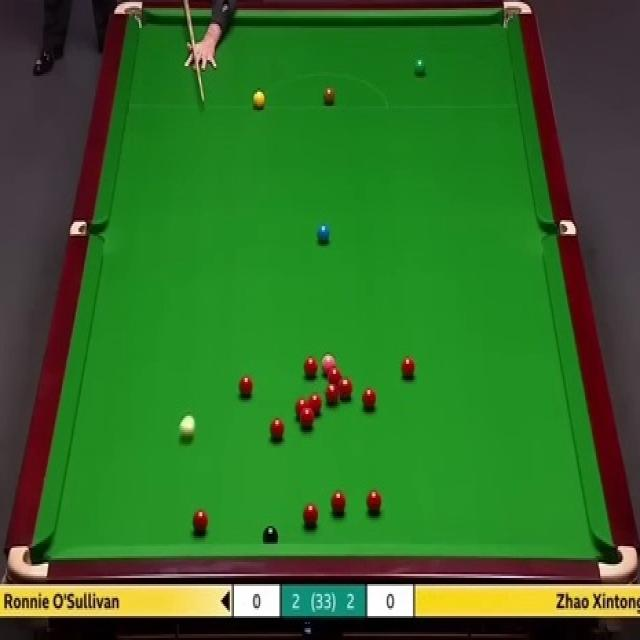black-ball: (264, 525, 282, 544)
blue-ball: (316, 225, 331, 242)
brown-ball: (323, 88, 336, 110)
green-ball: (415, 58, 425, 73)
pink-ball: (322, 354, 336, 374)
red-ball: (307, 393, 324, 419), (302, 504, 320, 528), (331, 488, 346, 516), (191, 509, 208, 533), (272, 417, 288, 441), (400, 354, 416, 378), (238, 377, 254, 398), (300, 408, 314, 430), (368, 491, 382, 513), (325, 384, 339, 405), (337, 380, 350, 402), (295, 399, 309, 418), (327, 367, 341, 386), (362, 390, 376, 408), (303, 357, 316, 376)
white-ball: (177, 415, 196, 442)
yellow-ball: (253, 90, 265, 110)
